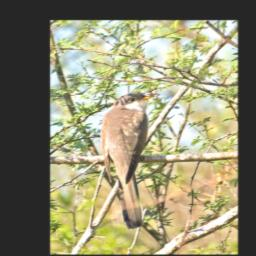Cuckoo: (100, 92, 160, 229)
